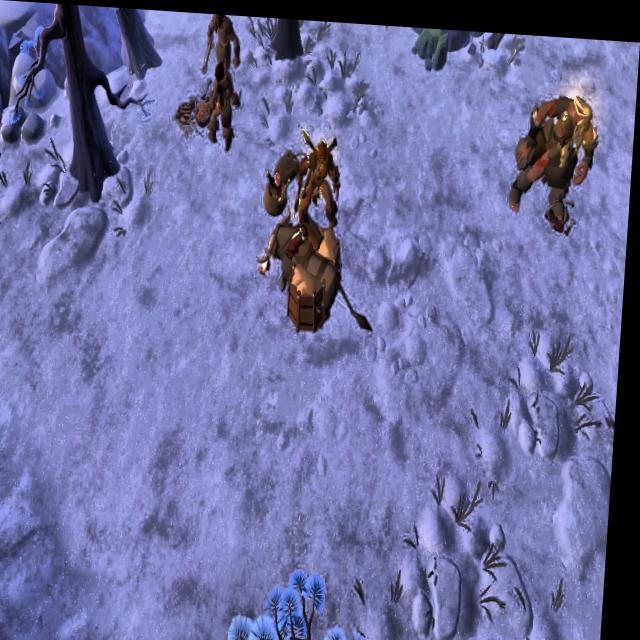enemy_factionKeeper: (509, 76, 598, 227), (205, 11, 244, 83), (208, 55, 239, 140)
rock_t3: (408, 21, 454, 65)
